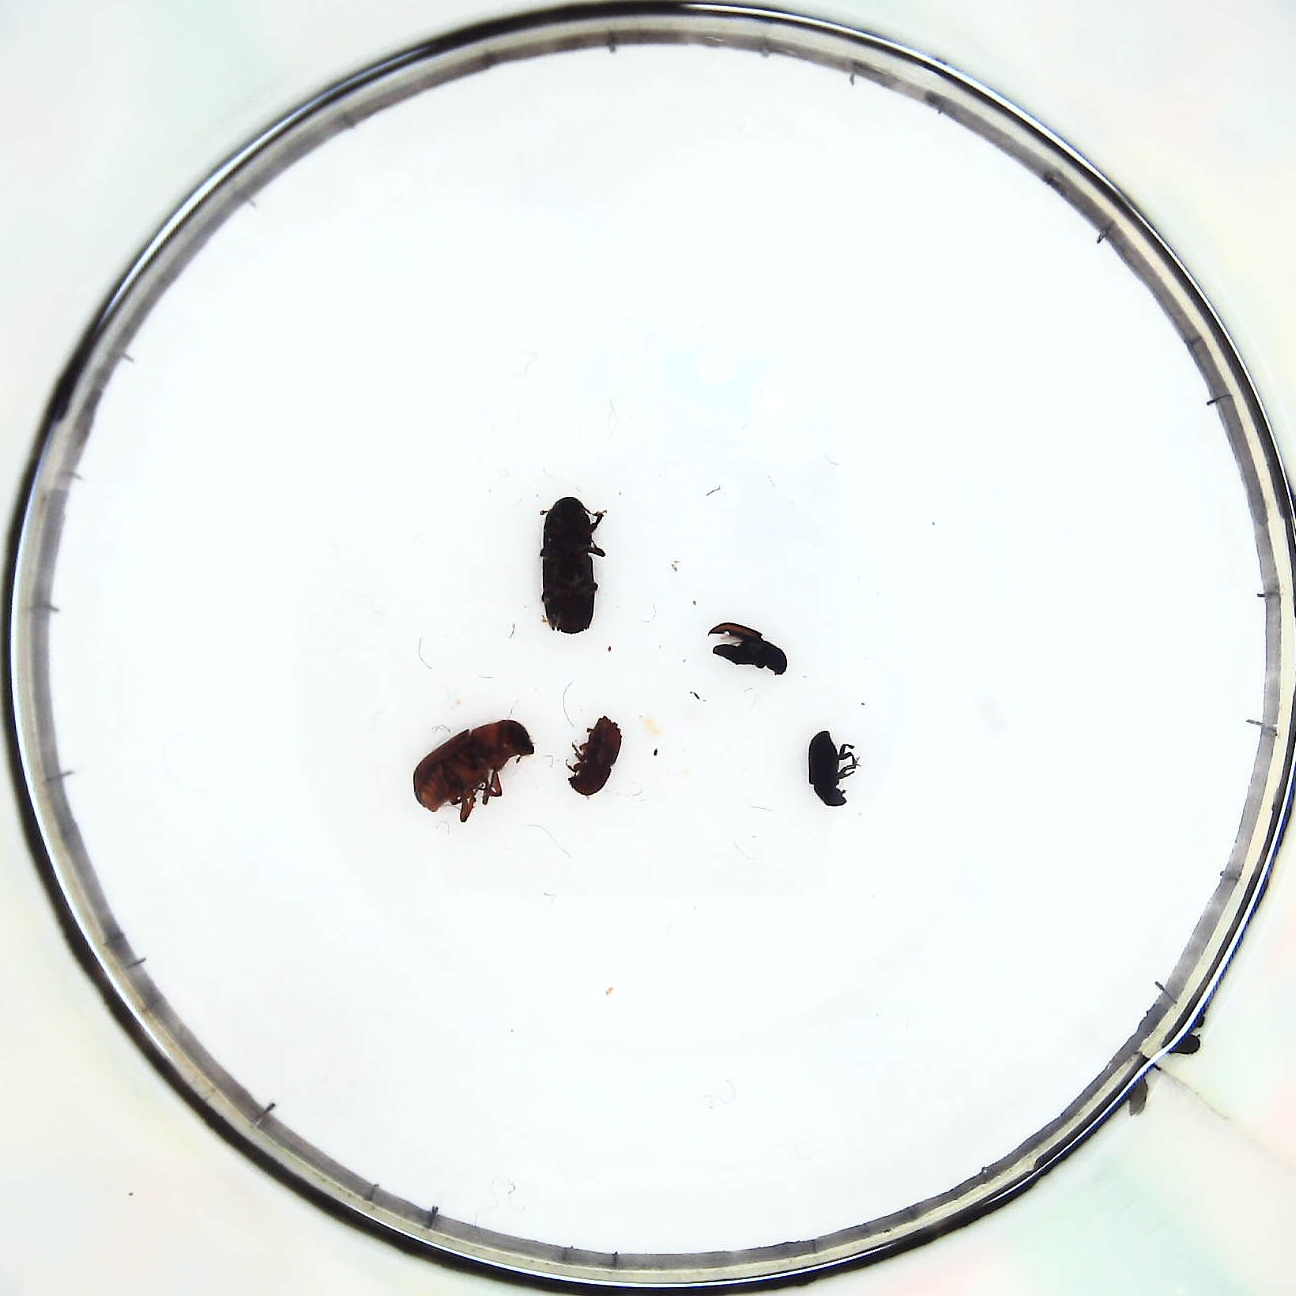Boerner: (533, 496, 602, 635)
Leconte: (408, 722, 536, 820)
Linnaeus: (567, 716, 621, 796)
armandi: (703, 622, 788, 672)
coleoptera: (803, 733, 855, 808)
